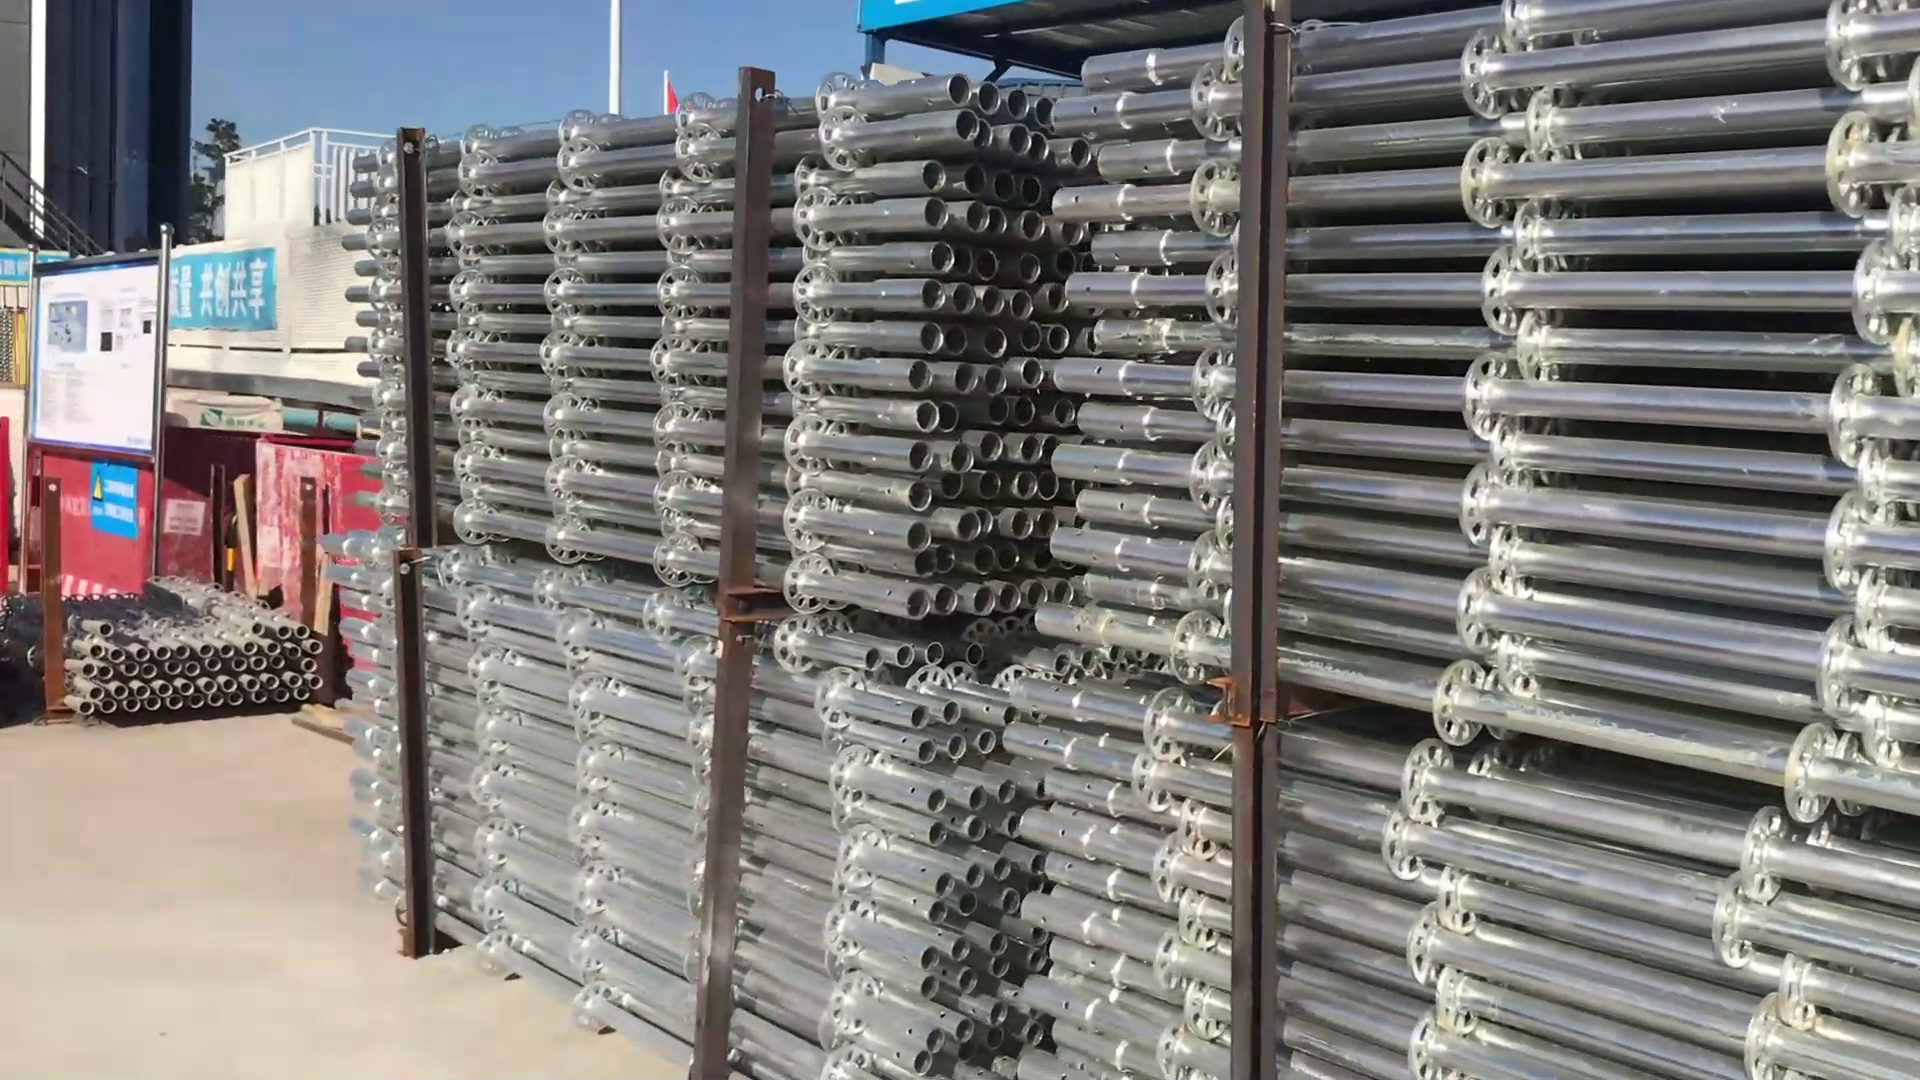fence: (258, 434, 367, 658), (33, 456, 152, 579)
scaffold: (357, 29, 1919, 1080), (47, 584, 331, 723)
slogan: (175, 255, 274, 330), (88, 462, 138, 542)
